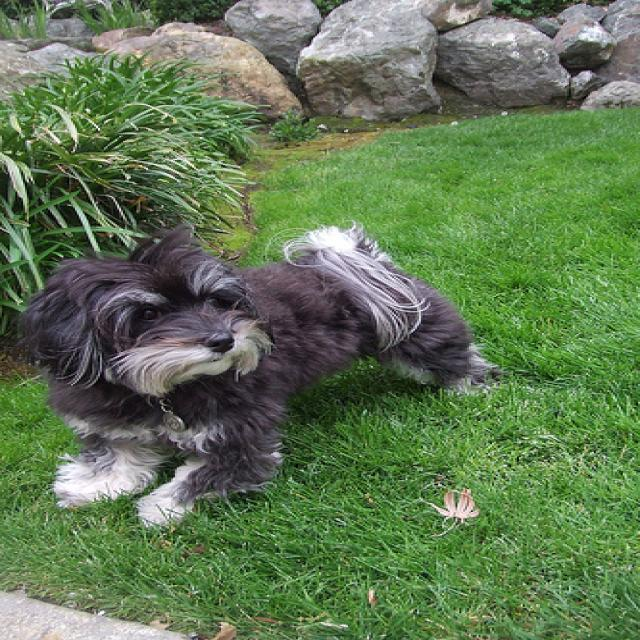dog-havanese: (23, 230, 498, 529)
